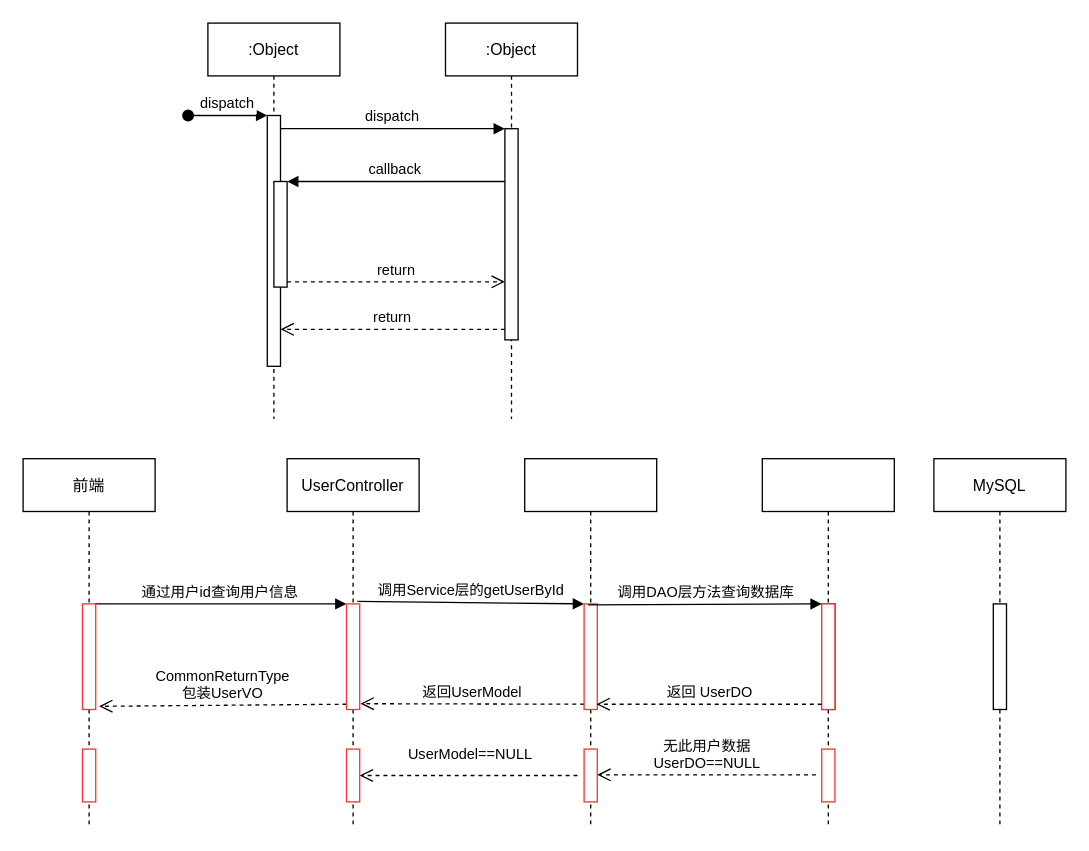
This 1089x851 diagram has some shape labels left out. The shapes that lost their labels are listed below. From the top down, each one's box as (x1, y1, x2, y2) in pixels, then its label:
(523, 457, 657, 828): UserService
(761, 457, 894, 828): UserDOMapper
